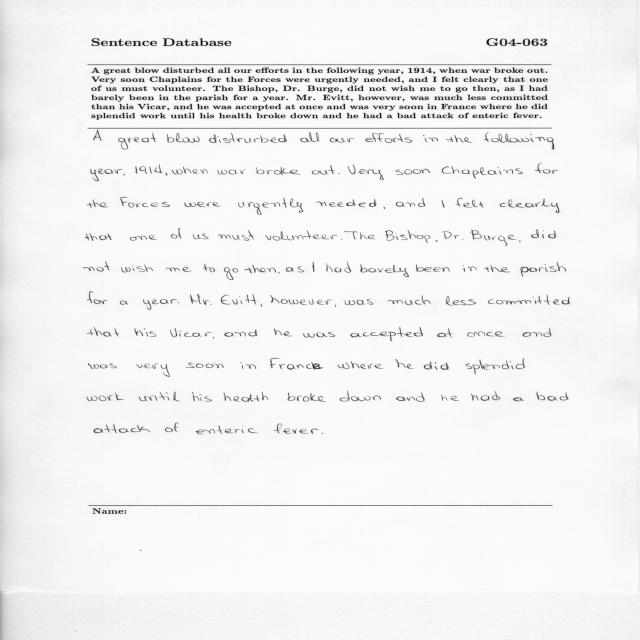word: (484, 132, 554, 150), (238, 197, 303, 215), (442, 166, 523, 179), (350, 327, 423, 341), (466, 358, 525, 374), (500, 199, 559, 213), (488, 295, 570, 305), (266, 230, 338, 241), (470, 229, 516, 246), (209, 133, 287, 143), (520, 262, 566, 277), (118, 133, 156, 150), (360, 264, 409, 277), (270, 358, 323, 370), (270, 295, 332, 305), (385, 230, 431, 243), (195, 426, 258, 435), (348, 165, 384, 180), (94, 424, 150, 433), (120, 198, 170, 208), (224, 391, 268, 402), (317, 199, 377, 207), (136, 363, 170, 377), (365, 133, 412, 143), (339, 391, 381, 402), (274, 424, 318, 434), (388, 295, 431, 305), (139, 392, 180, 402), (91, 169, 125, 181), (218, 230, 254, 241), (143, 299, 179, 310), (256, 167, 301, 175), (338, 361, 383, 369), (287, 393, 326, 402), (87, 392, 124, 401), (167, 133, 200, 143), (88, 327, 120, 337), (537, 391, 569, 401), (471, 391, 500, 401), (172, 167, 208, 175), (245, 265, 277, 274), (170, 328, 202, 337), (456, 198, 484, 208), (203, 295, 231, 305), (396, 392, 424, 402), (345, 231, 376, 240), (327, 262, 352, 273), (446, 297, 476, 306), (535, 163, 559, 174), (416, 264, 449, 272), (232, 294, 256, 305), (396, 198, 425, 207), (523, 328, 552, 337), (84, 262, 110, 272), (121, 264, 153, 272), (225, 330, 258, 337), (140, 164, 163, 174), (312, 165, 335, 175), (88, 292, 107, 304), (531, 230, 556, 239), (85, 233, 112, 241), (446, 135, 472, 143), (396, 169, 430, 175), (300, 132, 320, 142), (424, 362, 449, 370), (192, 392, 212, 402), (303, 332, 335, 338), (467, 332, 505, 337), (395, 359, 414, 369), (443, 231, 464, 240), (135, 328, 156, 337), (184, 202, 221, 207), (186, 363, 223, 368), (224, 267, 238, 280), (484, 265, 510, 272), (88, 363, 117, 369), (87, 200, 108, 208), (345, 299, 373, 305), (217, 170, 246, 175), (274, 329, 292, 337), (437, 329, 453, 338), (130, 235, 157, 240), (441, 394, 459, 401), (330, 138, 355, 143), (166, 267, 191, 272), (171, 228, 182, 239), (165, 423, 178, 432), (240, 363, 256, 370), (190, 294, 201, 304), (286, 267, 304, 273), (423, 135, 438, 142), (203, 264, 215, 272), (463, 265, 476, 272), (193, 234, 208, 240), (94, 130, 102, 141), (205, 332, 214, 339), (513, 398, 524, 402), (120, 301, 128, 305), (442, 200, 445, 208), (313, 262, 315, 272), (136, 166, 138, 174), (166, 173, 168, 176), (384, 207, 386, 209), (436, 240, 438, 242), (519, 241, 521, 243), (278, 272, 280, 274), (261, 304, 262, 307), (338, 173, 340, 174), (335, 305, 336, 307), (341, 239, 342, 240), (322, 433, 323, 434)
